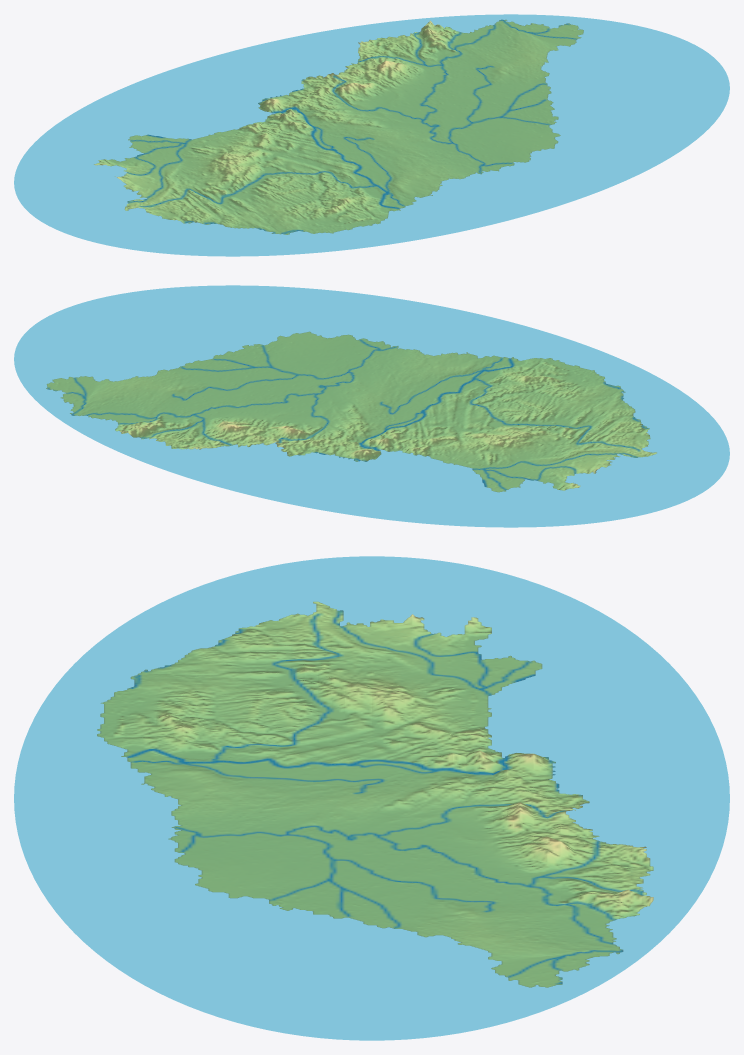
File: HUN-terrain.glb
3 renders of one model, top to bottom at view 1: azimuth 30°, elevation 25°; view 2: azimuth 150°, elevation 25°; view 3: azimuth 270°, elevation 25°, orthographic. The views are drawn at different scales.
Visible parts, largest first — view 1: Relevo com hidrografia; view 2: Relevo com hidrografia; view 3: Relevo com hidrografia.
Part boxes in pixels (<box>): Relevo com hidrografia: <box>14,14,729,256</box>; Relevo com hidrografia: <box>14,285,729,527</box>; Relevo com hidrografia: <box>14,556,729,1040</box>.
Bounding box in the file's own units: 2.03 × 0.0255 × 1.27.
2 materials, 1 textured.
